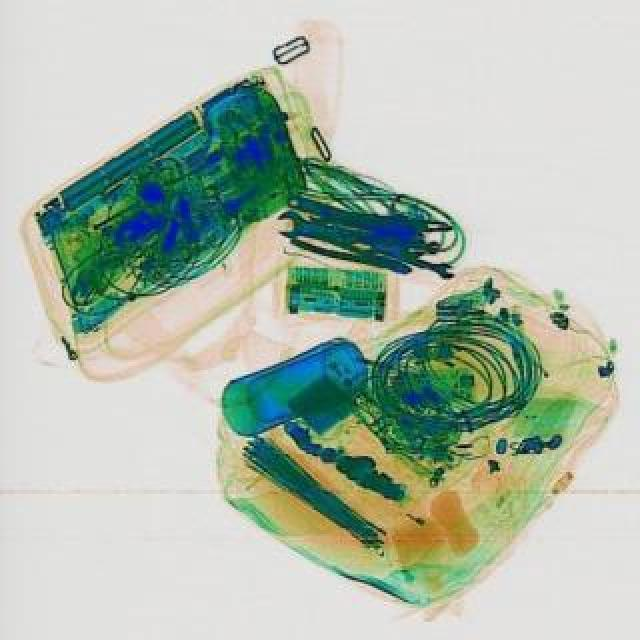scissors: (272, 212, 420, 262), (388, 250, 456, 284)
wrench: (286, 230, 412, 282)
